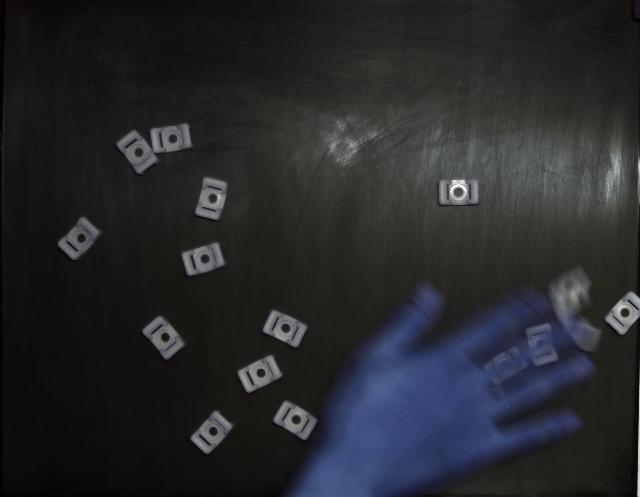first_side: (190, 411, 234, 455), (142, 316, 185, 360), (116, 131, 158, 175), (58, 218, 102, 260), (272, 401, 318, 441), (262, 310, 308, 348), (238, 355, 282, 394), (181, 242, 226, 276), (195, 178, 228, 220), (150, 124, 192, 154), (439, 179, 479, 206)
